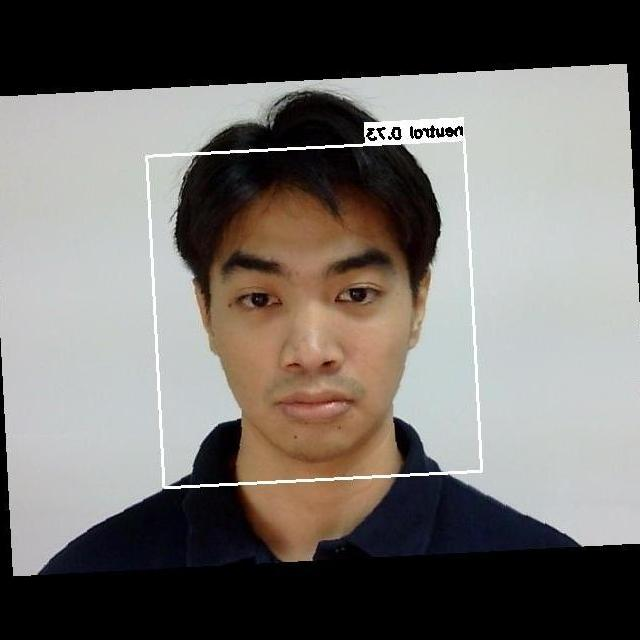Fear: (198, 216, 432, 448)
